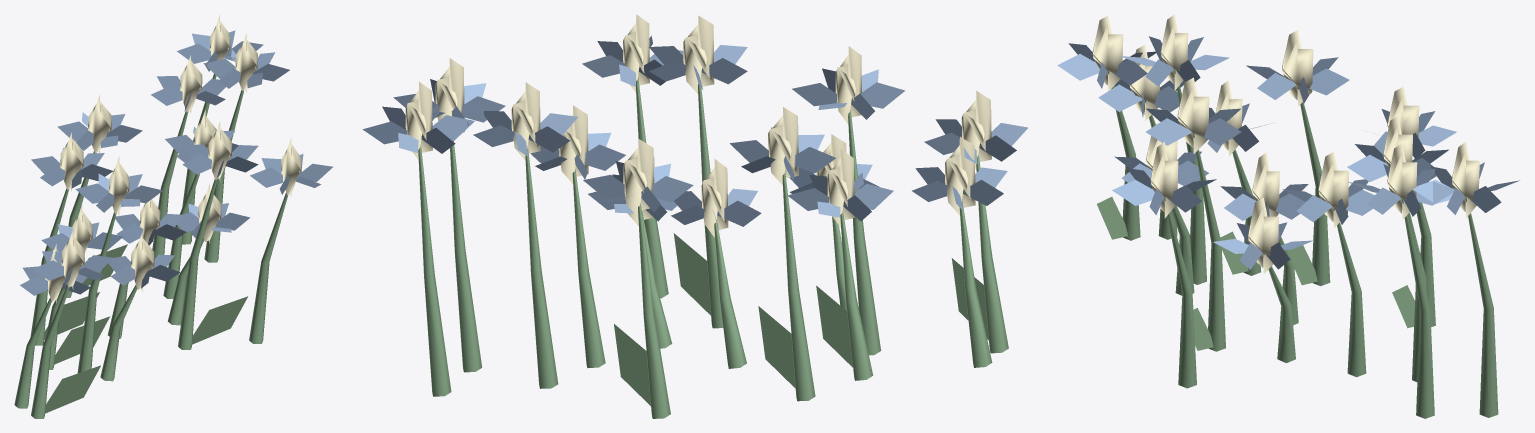
Rendered from flower_blue.glb.
The picture shows the model from 3 angles, left to right: view 1: azimuth 30°, elevation 25°; view 2: azimuth 150°, elevation 25°; view 3: azimuth 270°, elevation 25°; orthographic projection. The views are drawn at different scales.
Visible parts, largest first — view 1: flower_blue; view 2: flower_blue; view 3: flower_blue.
Boxes of the visible parts, bbox=[...] form: flower_blue: bbox=[14, 15, 333, 418]; flower_blue: bbox=[363, 14, 1027, 418]; flower_blue: bbox=[1057, 14, 1519, 418].
Bounding box in the file's own units: 1.39 × 0.8401 × 1.22.
